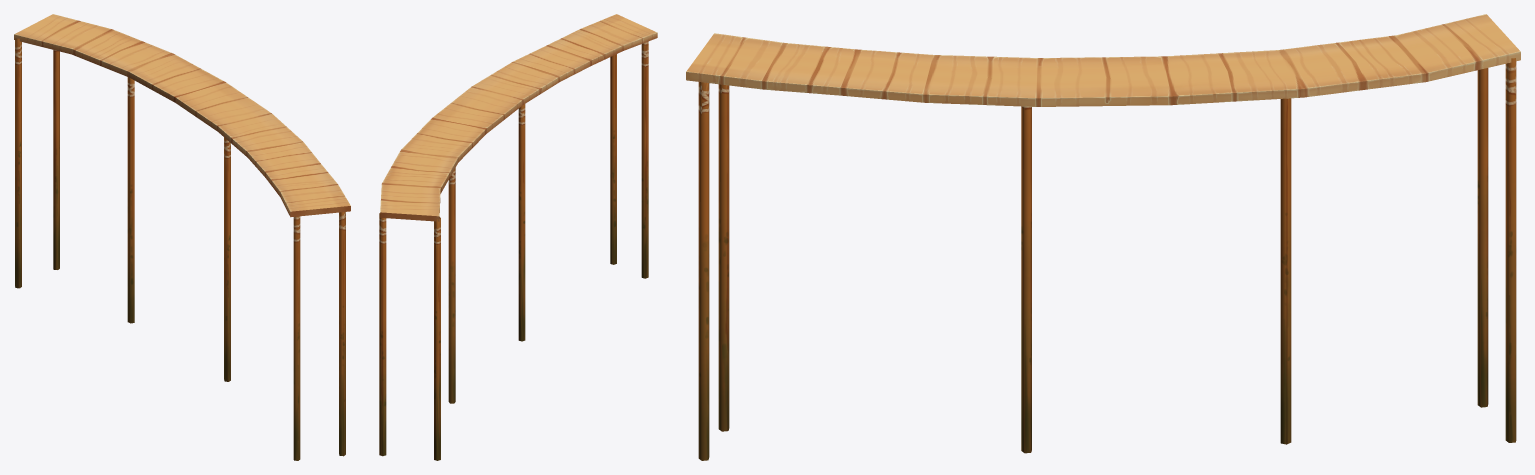
File: Arte_3d_fbx_muelle.fbx
3 views of the same model, side by side, from view 1: azimuth 30°, elevation 25°; view 2: azimuth 150°, elevation 25°; view 3: azimuth 270°, elevation 25° (orthographic). The views are drawn at different scales.
Visible parts, largest first — view 1: muelle; view 2: muelle; view 3: muelle.
Boxes of the visible parts, x1=… form: muelle: x1=14, y1=14, x2=350, y2=460; muelle: x1=379, y1=14, x2=657, y2=460; muelle: x1=686, y1=14, x2=1520, y2=460.
Size of the model in its own units: 2108 by 4525 by 8799.
